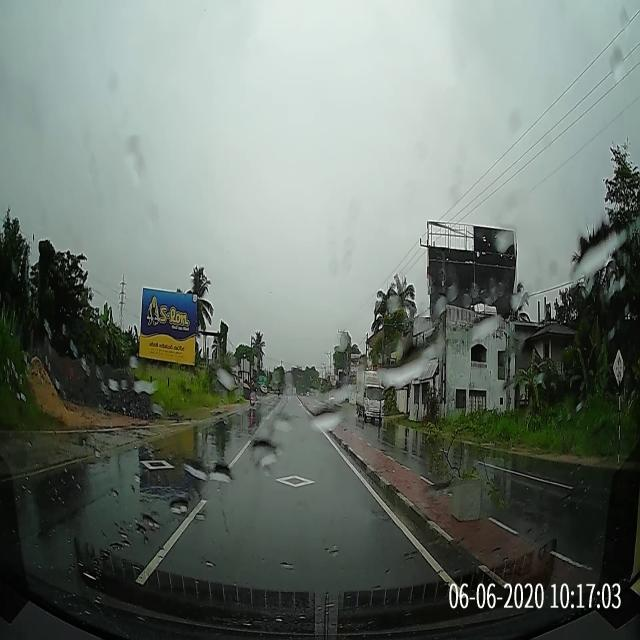diamond: (199, 458, 380, 500)
